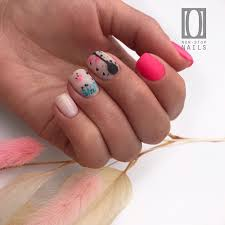nail: (87, 50, 121, 78), (67, 67, 99, 96), (135, 52, 166, 80), (53, 91, 80, 118), (170, 37, 197, 63)
